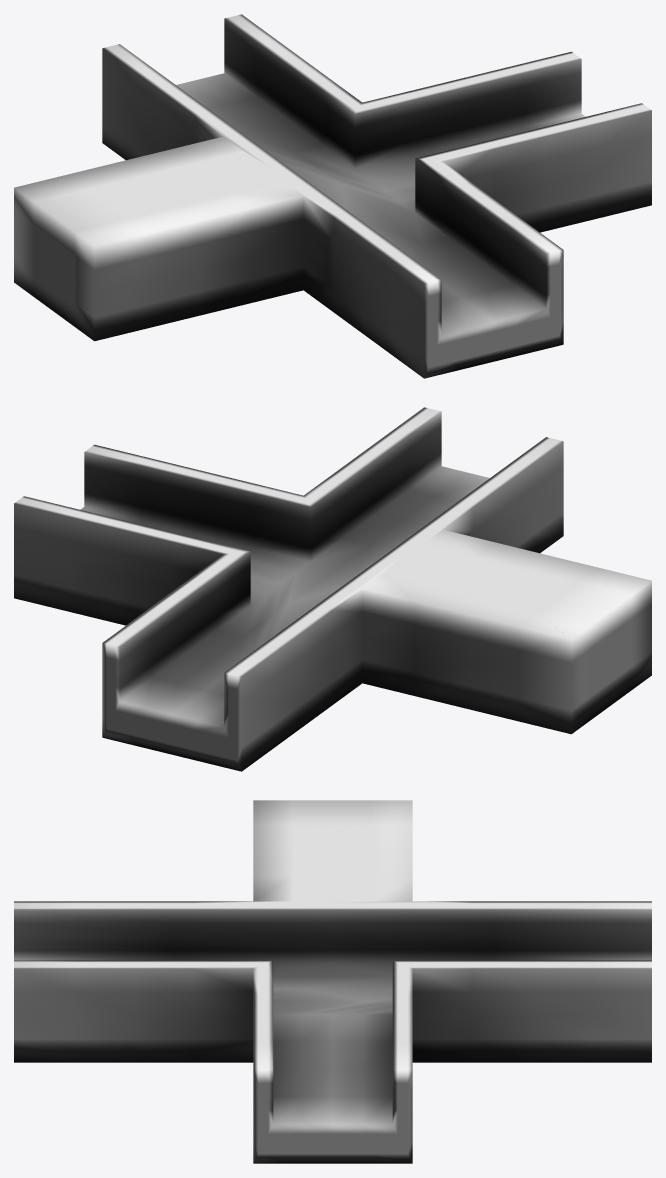
3 renders of one model, top to bottom at view 1: azimuth 30°, elevation 25°; view 2: azimuth 150°, elevation 25°; view 3: azimuth 270°, elevation 25°, orthographic.
Parts seen in each view (by area): view 1: defaultobject; view 2: defaultobject; view 3: defaultobject.
Boxes of the visible parts, box(x1,y1,x2,y2) form: defaultobject: box(14, 14, 651, 378); defaultobject: box(14, 407, 651, 771); defaultobject: box(14, 800, 651, 1163).
Bounding box in the file's own units: 1 × 0.1625 × 1.
Materials: 1 (1 with a texture image).
